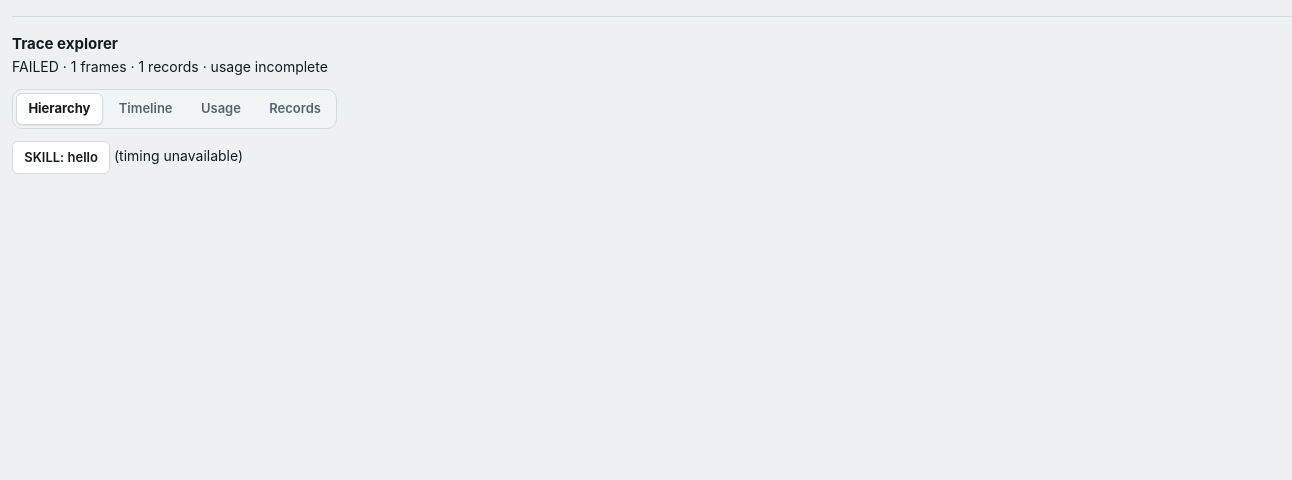
Test: loads hierarchy and deliberately reads inert evidence
Expected: the text "FAILED · 1 frames · 1 records · usage incomplete" is shown, [12,58,328,74]
Click the tab "Records": point(295, 109) [257,93,333,125]
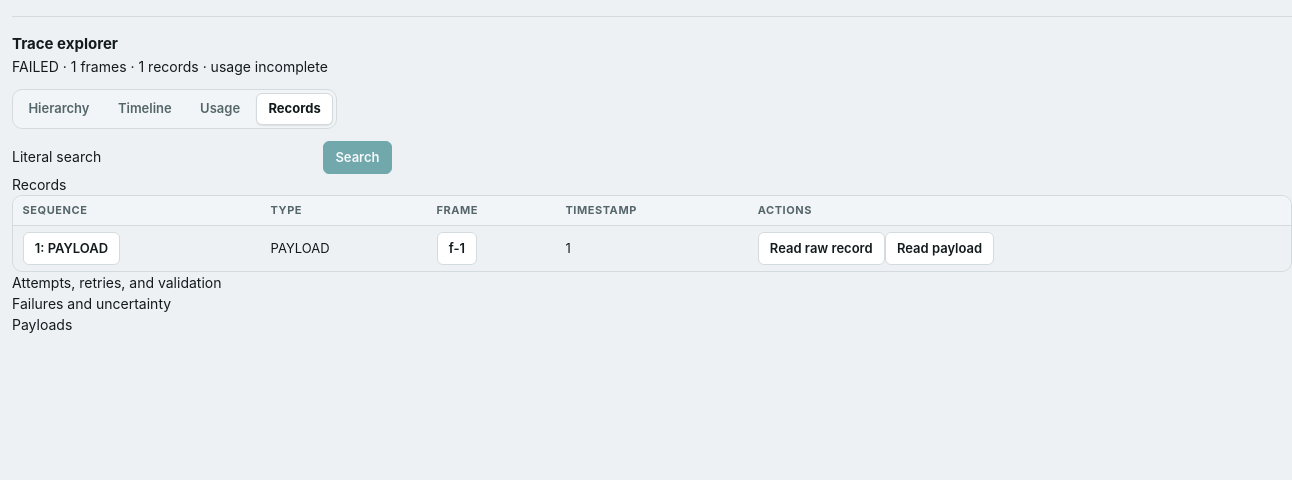
Expected: the button "1: PAYLOAD" is shown, [23,232,120,264]
Click the button "Read payload": point(940, 248) [885,232,994,264]
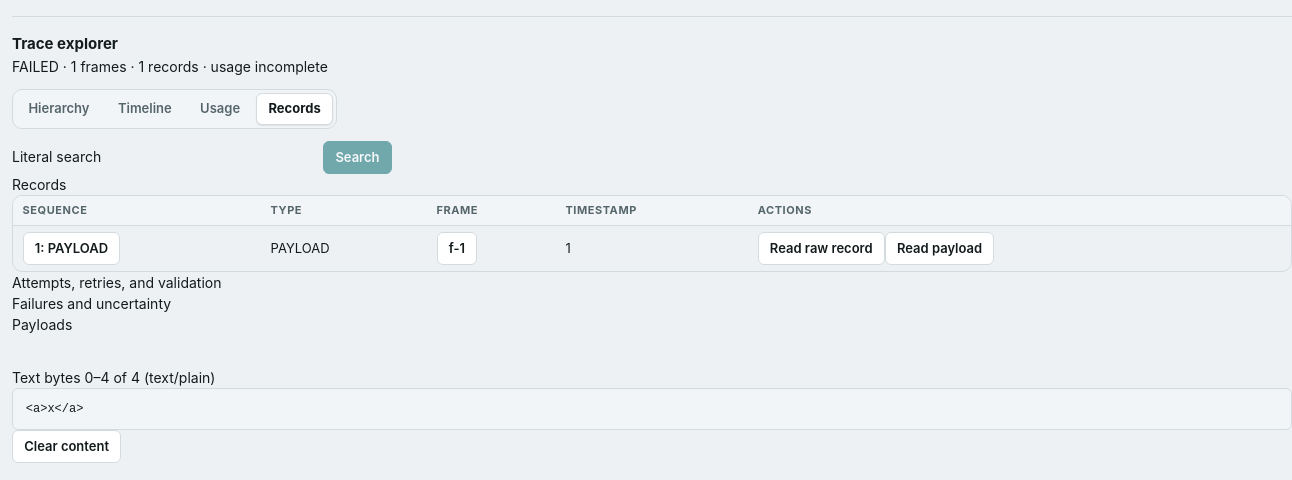
Expected: the text "<a>x</a>" is shown, [12,388,1291,430]
Click the tab "Usage": point(220, 109) [188,93,252,125]
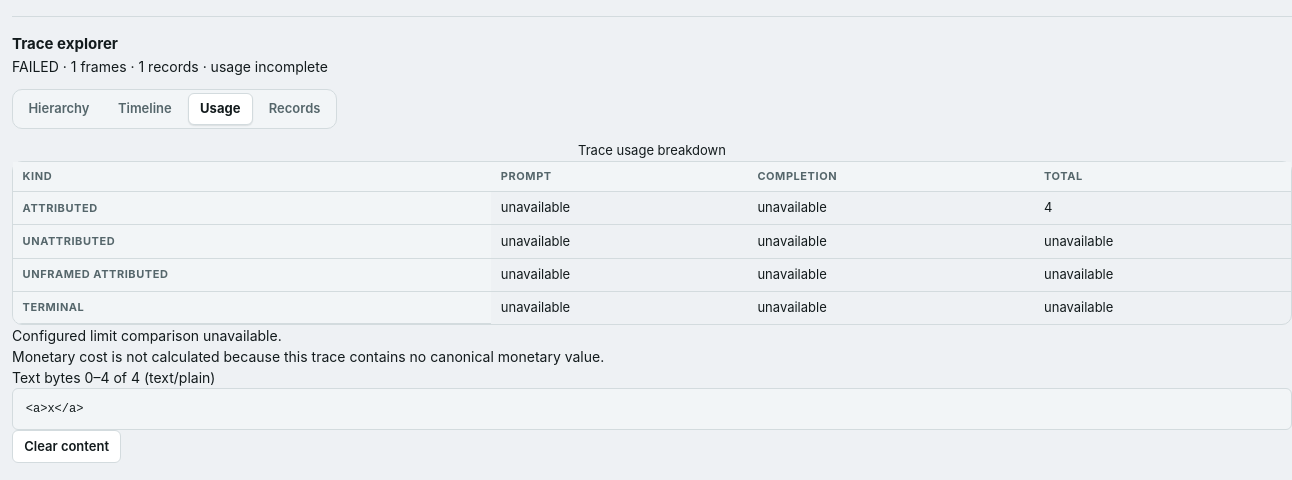
Expected: the table named "Usage facts" is shown, [12,141,1291,325]
